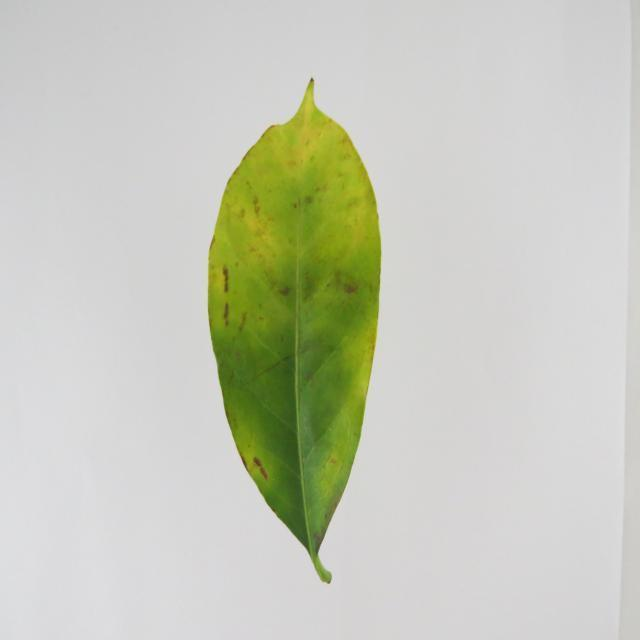DeficienciaNutricional-Nitrogeno: (208, 82, 378, 579)
